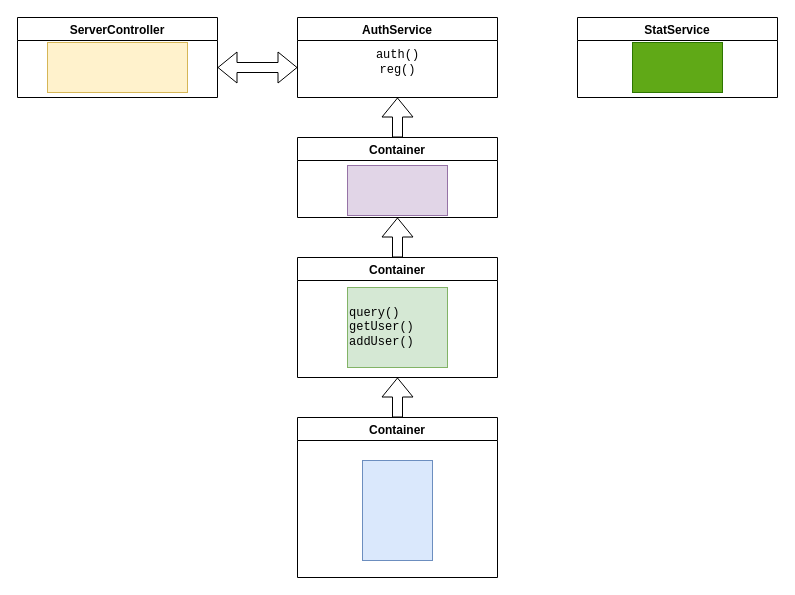
The diagram is 795 pixels wide and 595 high, and some of its shapes have lost their labels. Here are the shapes that lost their labels. From the top down, the centre of each, then its label:
point (117, 67): handleRequest()
point (677, 67): getStat()
point (397, 190): checkTask()
point (397, 510): login password email stat1 stat2 stat3
